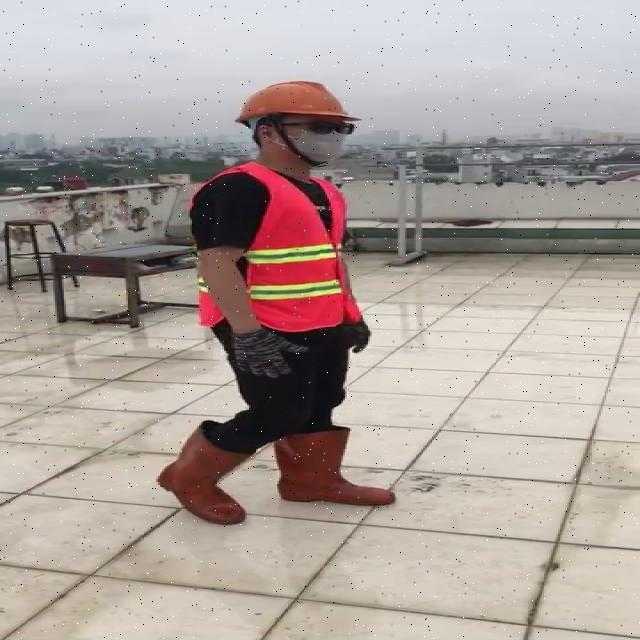Hard_hat: (230, 76, 366, 135)
Person: (154, 65, 402, 532)
Vest: (234, 163, 343, 323)
